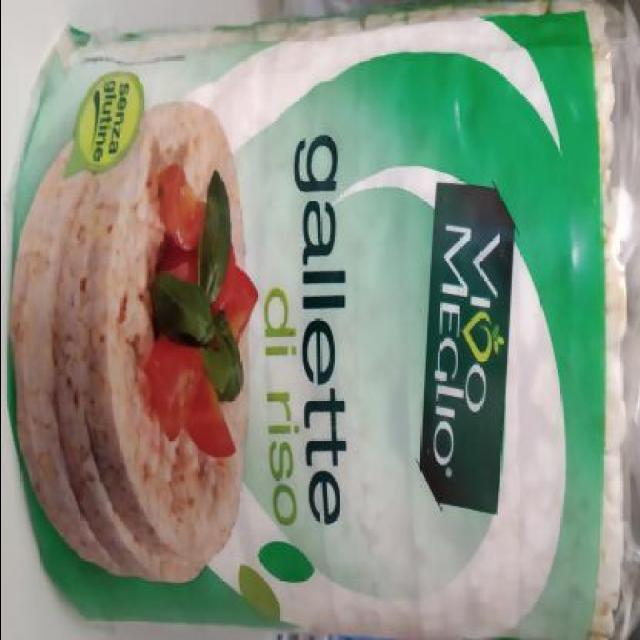Gallette di riso: (4, 3, 628, 639)
